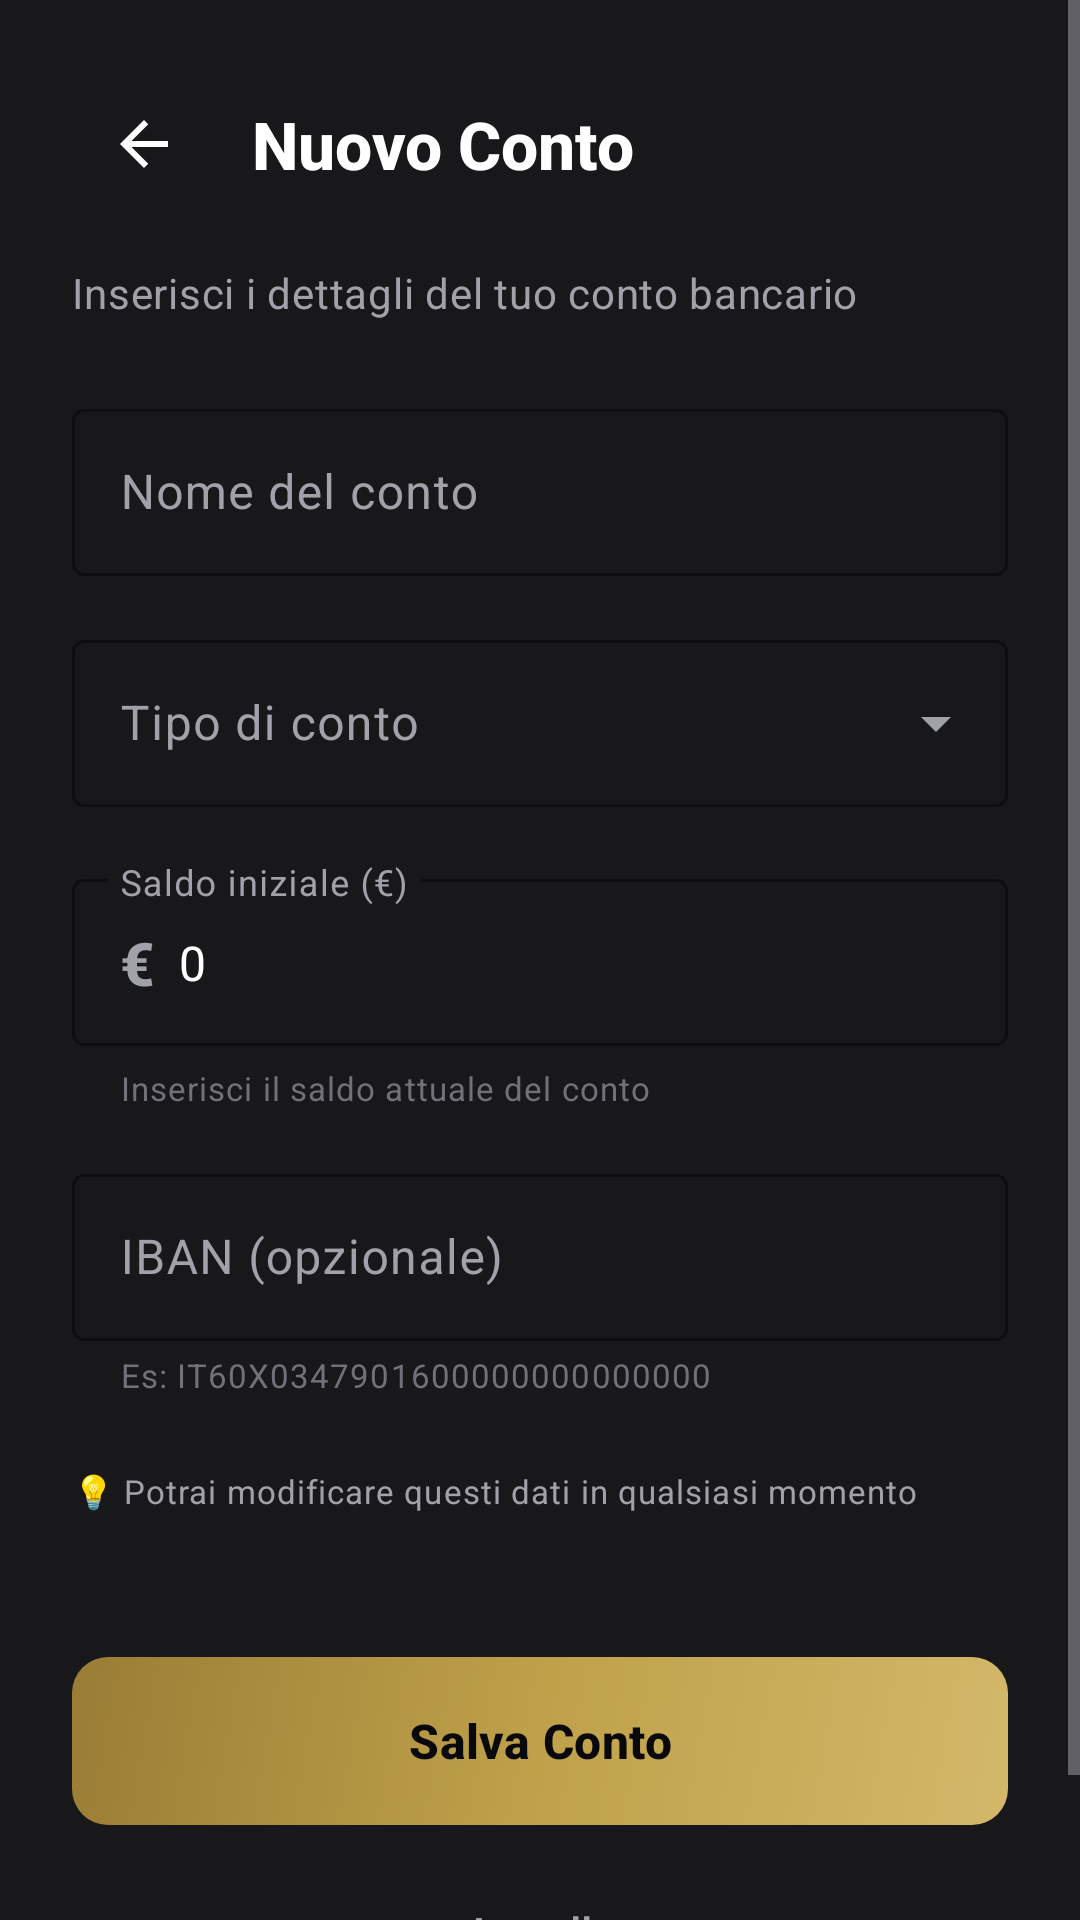

Locate icon controls on the screen. Image size 1080px×1920px, boxes as (x1, y1, x2, y2).
Torna indietro: (120, 120, 168, 168)
